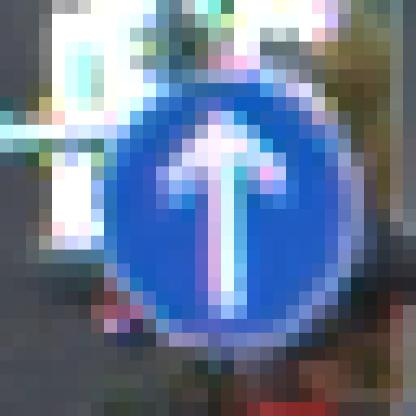AheadOnly: (79, 70, 339, 348)
